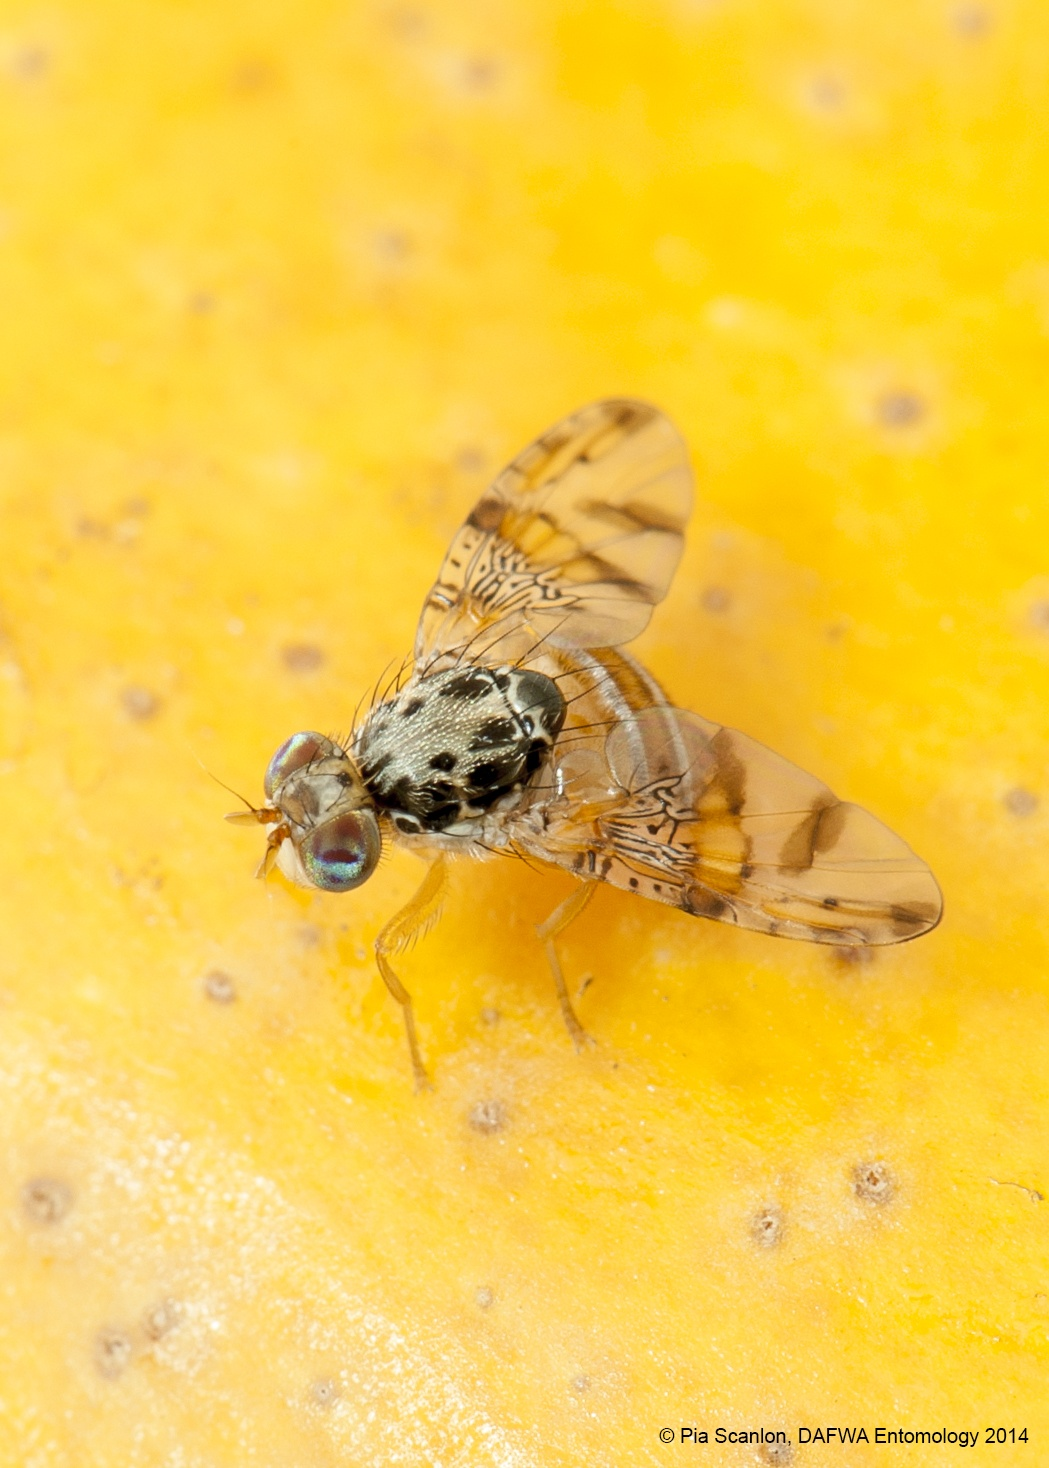Fruit fly: (187, 358, 1015, 1082)
